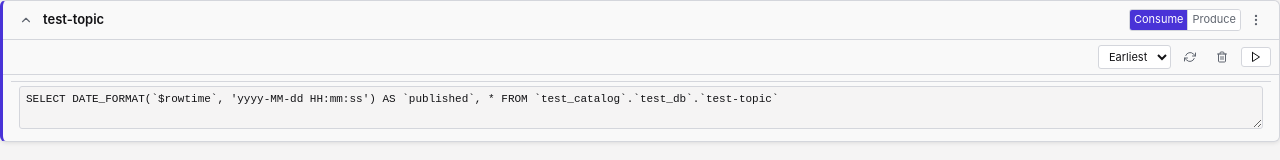
[@stream-card-coverage] StreamCard Coverage › [@stream-card-coverage] SQL Editor › editing SQL sets dirty flag and shows Reset button
Replace the text in the text box named "SQL query" with "SELECT id FROM test": (641, 108) [19,86,1263,129]
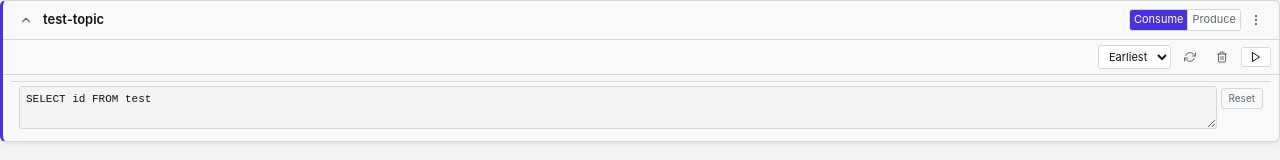
Result: the button "Reset" is shown at [1220,88,1263,109]
